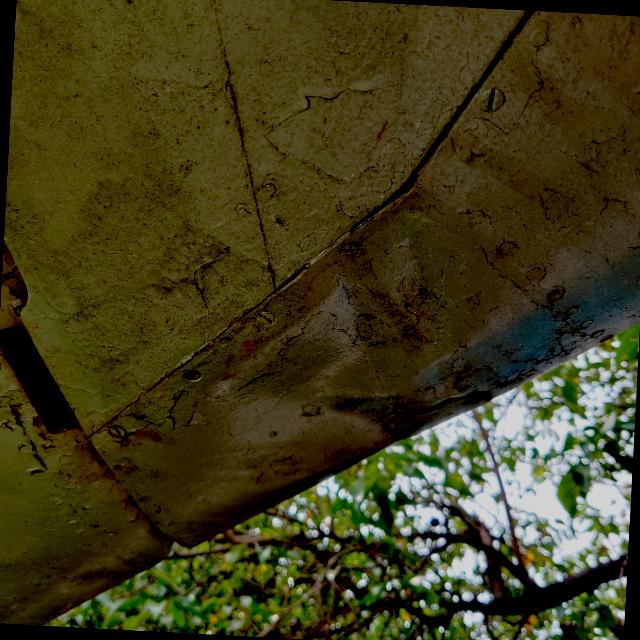dent: (228, 251, 464, 470)
